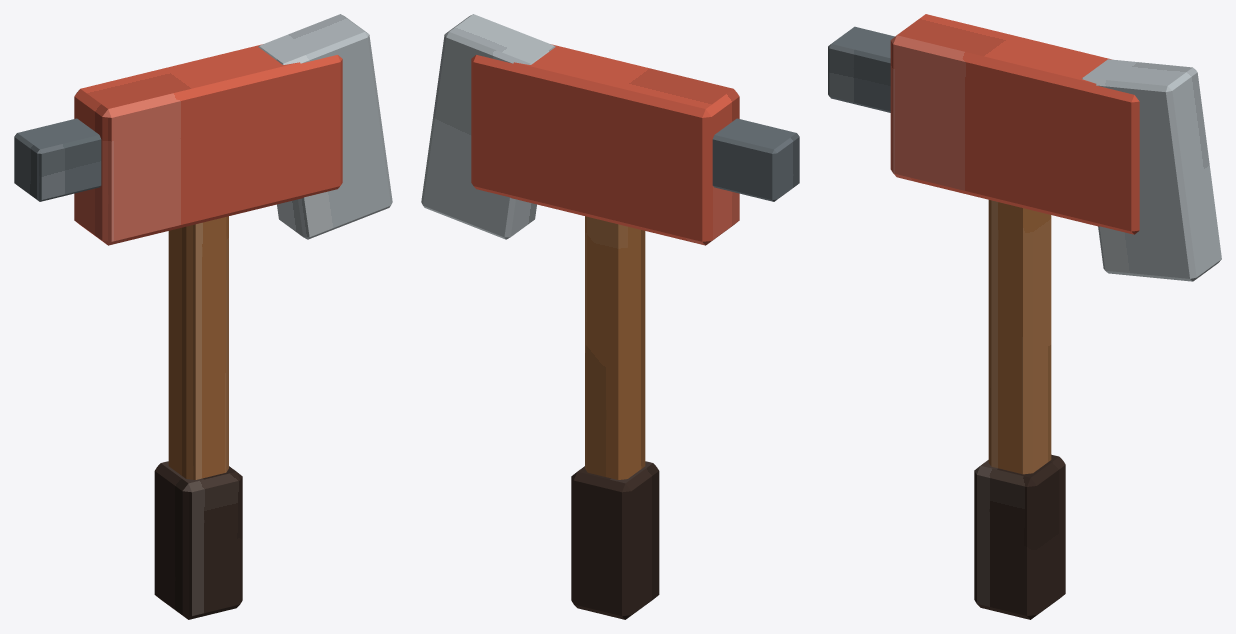
File: rescue_axe.glb
The picture shows the model from 3 angles, left to right: view 1: azimuth 30°, elevation 25°; view 2: azimuth 150°, elevation 25°; view 3: azimuth 330°, elevation 25°; orthographic projection. The views are drawn at different scales.
Parts seen in each view (by area): view 1: AxeHead, AxeHandle, AxeBlade, AxeGrip, AxePick; view 2: AxeHead, AxeHandle, AxeBlade, AxeGrip, AxePick; view 3: AxeHead, AxeBlade, AxeHandle, AxeGrip, AxePick.
Boxes of the visible parts, box(x1,y1,x2,y2) form: AxeHead: box(74, 44, 342, 245); AxeHandle: box(168, 216, 228, 479); AxeBlade: box(258, 14, 392, 239); AxeGrip: box(154, 461, 242, 619); AxePick: box(14, 118, 101, 201); AxeHead: box(471, 44, 739, 245); AxeHandle: box(585, 216, 645, 479); AxeBlade: box(421, 14, 555, 239); AxeGrip: box(571, 461, 659, 619); AxePick: box(712, 118, 799, 201); AxeHead: box(890, 14, 1139, 234); AxeBlade: box(1082, 59, 1221, 281); AxeHandle: box(988, 200, 1051, 474); AxeGrip: box(974, 454, 1065, 619); AxePick: box(828, 26, 894, 112).
Size of the model in its own units: 0.7074 by 1.03 by 0.12.
1 material, 1 textured.
